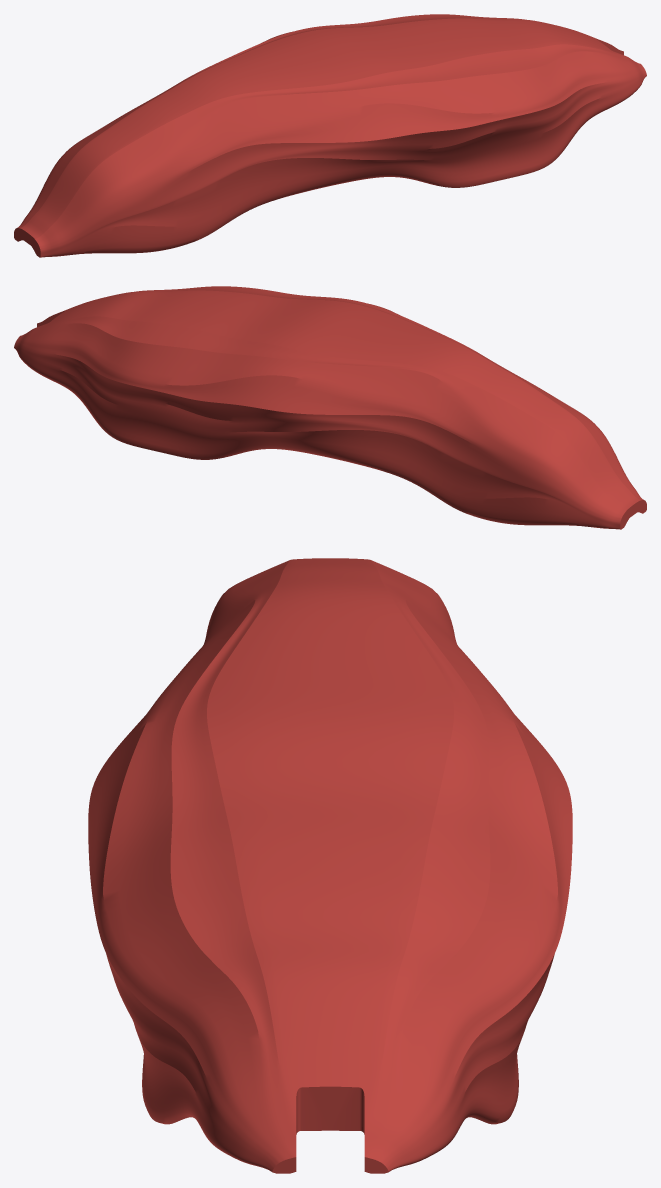
Rendered from wedge.glb.
3 renders of one model, top to bottom at view 1: azimuth 30°, elevation 25°; view 2: azimuth 150°, elevation 25°; view 3: azimuth 270°, elevation 25°, orthographic. The views are drawn at different scales.
Parts seen in each view (by area): view 1: wedge; view 2: wedge; view 3: wedge.
Part boxes in pixels (left/top/right/bottom): wedge: left=14, top=14, right=646, bottom=257; wedge: left=14, top=286, right=646, bottom=529; wedge: left=88, top=558, right=572, bottom=1173.
Size of the model in its own units: 1.07 by 0.217 by 0.3694.
